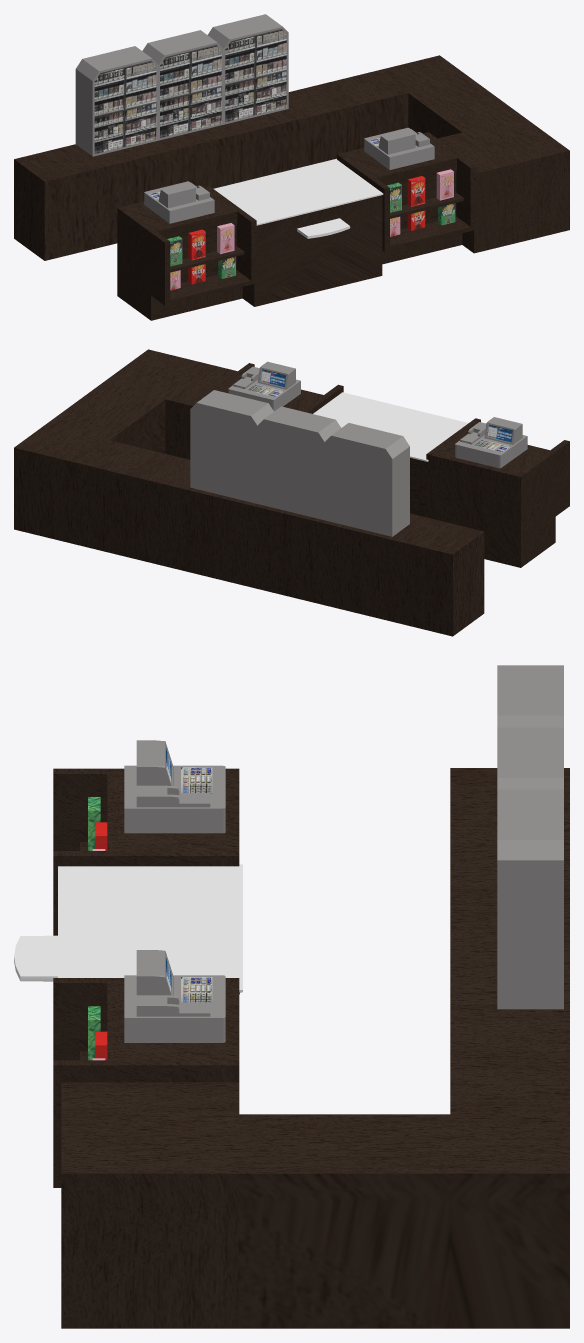
File: cashiercounter.fbx
3 renders of one model, top to bottom at view 1: azimuth 30°, elevation 25°; view 2: azimuth 150°, elevation 25°; view 3: azimuth 270°, elevation 25°, orthographic. The views are drawn at different scales.
Visible parts, largest first — view 1: counter3, cashiercounter, counter4, cigbox, counter5, cigbox1, cigbox2, cashier2, cashier1, pockybrown11_ncl1_1, pockypink11, pockypink11_ncl1_1 (+1 smaller); view 2: counter3, counter4, cigbox, cigbox2, cigbox1, cashiercounter, cashier2, cashier1, counter5; view 3: counter3, cashiercounter, cigbox2, counter5, counter4, cashier2, cashier1, cigbox, cigbox1.
Boxes of the visible parts, <box> form: counter3: <box>14,55,569,260</box>; cashiercounter: <box>213,158,383,306</box>; counter4: <box>117,185,256,320</box>; cigbox: <box>75,46,158,156</box>; counter5: <box>337,132,475,264</box>; cigbox1: <box>142,30,223,140</box>; cigbox2: <box>208,14,288,124</box>; cashier2: <box>144,181,214,223</box>; cashier1: <box>364,127,434,169</box>; pockybrown11_ncl1_1: <box>407,176,425,206</box>; pockypink11: <box>217,223,234,253</box>; pockypink11_ncl1_1: <box>436,169,453,200</box>; counter3: <box>14,349,484,636</box>; counter4: <box>426,418,569,567</box>; cigbox: <box>325,423,409,536</box>; cigbox2: <box>190,390,273,503</box>; cigbox1: <box>257,406,340,520</box>; cashiercounter: <box>313,392,468,517</box>; cashier2: <box>455,417,527,468</box>; cashier1: <box>228,361,300,411</box>; counter5: <box>200,363,343,413</box>; counter3: <box>61,768,569,1328</box>; cashiercounter: <box>14,864,242,994</box>; cigbox2: <box>497,789,563,1009</box>; counter5: <box>53,978,239,1187</box>; counter4: <box>53,768,239,935</box>; cashier2: <box>124,740,225,833</box>; cashier1: <box>124,950,225,1042</box>; cigbox: <box>497,665,563,727</box>; cigbox1: <box>497,727,563,789</box>.
Size of the model in its own units: 465 by 172 by 269.
